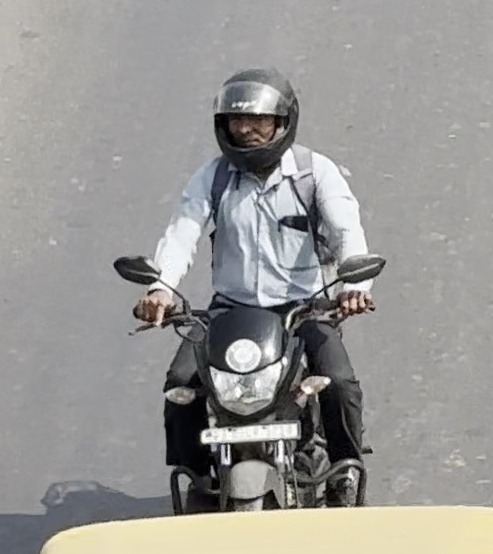BikeWithRider: (106, 57, 399, 522)
Helmet: (201, 60, 307, 174)
